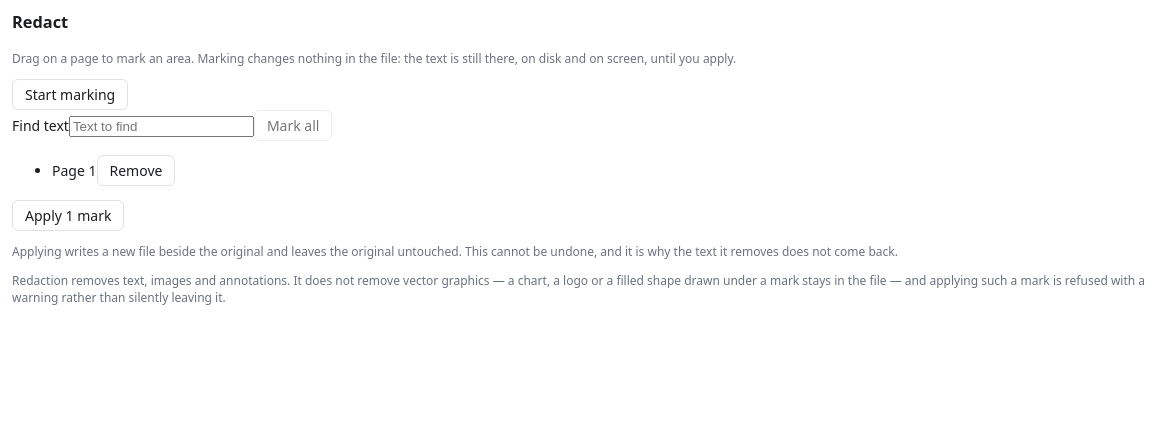
Test case: RedactPanel › does not warn about vector drawing when nothing was left behind
The image size is (1161, 446).
Click the button "Apply 1 mark": (68, 215) [12,200,124,231]
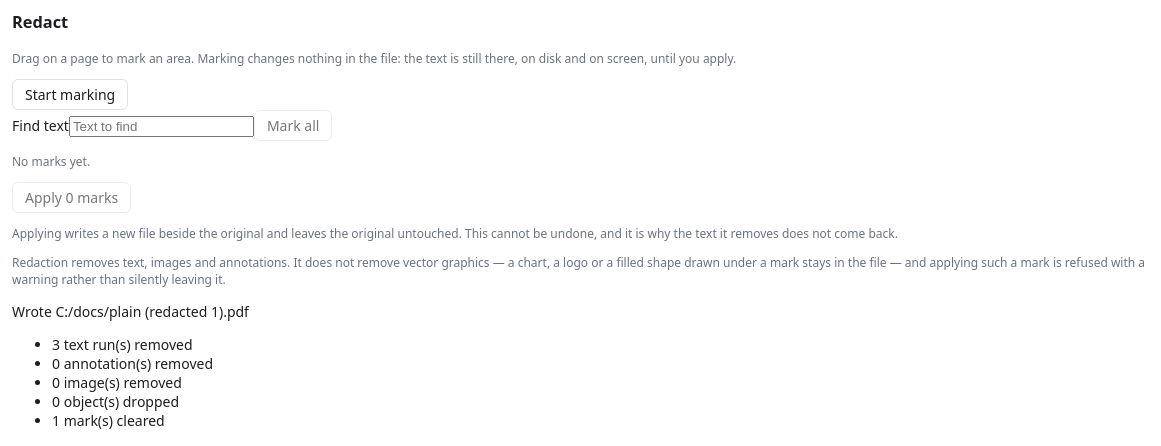
Check: the text "Wrote C:/docs/plain (redacted 1).pdf" is shown, box [12,302,249,321]
